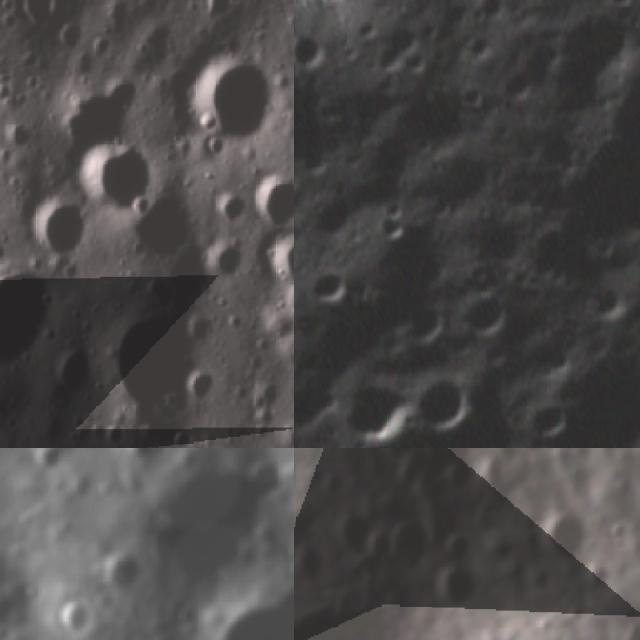crater: (528, 0, 640, 132), (188, 42, 282, 156), (109, 311, 193, 424), (398, 358, 489, 448), (327, 365, 424, 448), (0, 261, 61, 373), (449, 276, 527, 351), (77, 140, 155, 214), (120, 200, 199, 272), (18, 197, 88, 266), (510, 383, 582, 448), (294, 357, 343, 448), (536, 502, 600, 570), (294, 601, 401, 640), (390, 291, 454, 356), (294, 253, 360, 316), (202, 595, 294, 640), (526, 117, 590, 181), (365, 192, 425, 252), (431, 561, 486, 609), (251, 174, 294, 233), (294, 31, 336, 91), (100, 538, 145, 594), (390, 514, 435, 570), (206, 237, 252, 291), (54, 344, 95, 404), (332, 506, 376, 558), (50, 13, 92, 61), (11, 0, 62, 37), (265, 230, 294, 293), (439, 522, 481, 565), (448, 451, 481, 496), (214, 193, 251, 233), (52, 604, 99, 634), (478, 449, 508, 495), (188, 363, 217, 403), (205, 0, 243, 24), (369, 448, 427, 462), (563, 448, 608, 459), (37, 448, 65, 464)
